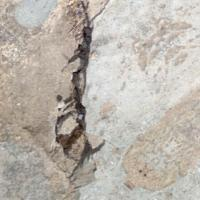crack: (48, 0, 131, 197)
